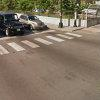Crosswalk: (2, 34, 92, 53)
